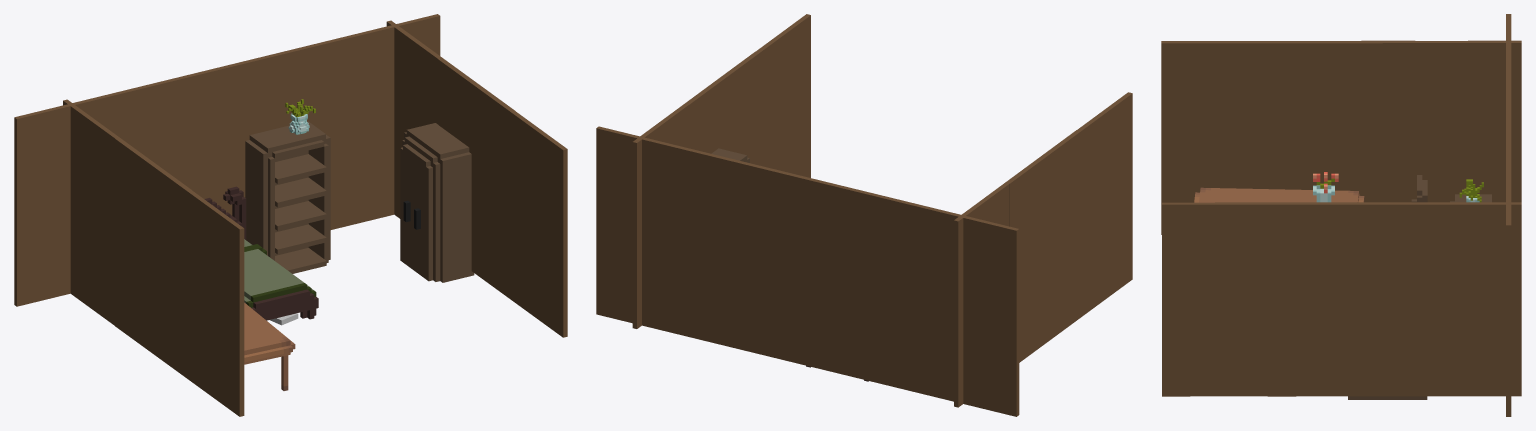
The model's file is camera lui ryan.fbx.
3 renders of one model, left to right at view 1: azimuth 30°, elevation 25°; view 2: azimuth 150°, elevation 25°; view 3: azimuth 270°, elevation 25°, orthographic. The views are drawn at different scales.
Visible parts, largest first — view 1: Untitled.007, Untitled.004, Untitled.003, Untitled.008, Untitled.002, Untitled.009, Untitled.005, Untitled.006, Untitled, Untitled.011, Untitled.010; view 2: Untitled.004, Untitled.003, Untitled.007, Untitled.008, Untitled.006, Untitled.005; view 3: Untitled.006, Untitled.005, Untitled.008, Untitled.007, Untitled.011, Untitled.003, Untitled.004, Untitled.012, Untitled.010.
Boxes of the visible parts, x1,y1,x2,y2 form: Untitled.007: (115, 138, 244, 416); Untitled.004: (14, 65, 231, 306); Untitled.003: (224, 14, 440, 229); Untitled.008: (438, 59, 567, 337); Untitled.002: (245, 121, 330, 273); Untitled.009: (400, 123, 474, 282); Untitled.005: (63, 99, 191, 325); Untitled.006: (386, 20, 514, 218); Untitled: (204, 186, 318, 320); Untitled.011: (244, 302, 295, 390); Untitled.010: (285, 99, 315, 134); Untitled.004: (803, 178, 1019, 416); Untitled.003: (596, 126, 811, 366); Untitled.007: (1007, 92, 1132, 362); Untitled.008: (685, 14, 810, 177); Untitled.006: (632, 51, 759, 328); Untitled.005: (954, 130, 1079, 407); Untitled.006: (1267, 202, 1521, 396); Untitled.005: (1267, 40, 1521, 202); Untitled.008: (1162, 202, 1388, 396); Untitled.007: (1161, 40, 1414, 234); Untitled.011: (1194, 187, 1364, 202); Untitled.003: (1506, 118, 1511, 416); Untitled.004: (1506, 14, 1511, 117); Untitled.012: (1313, 172, 1338, 202); Untitled.010: (1459, 179, 1483, 202).
Bounding box in the file's own units: 945 × 411 × 681.
